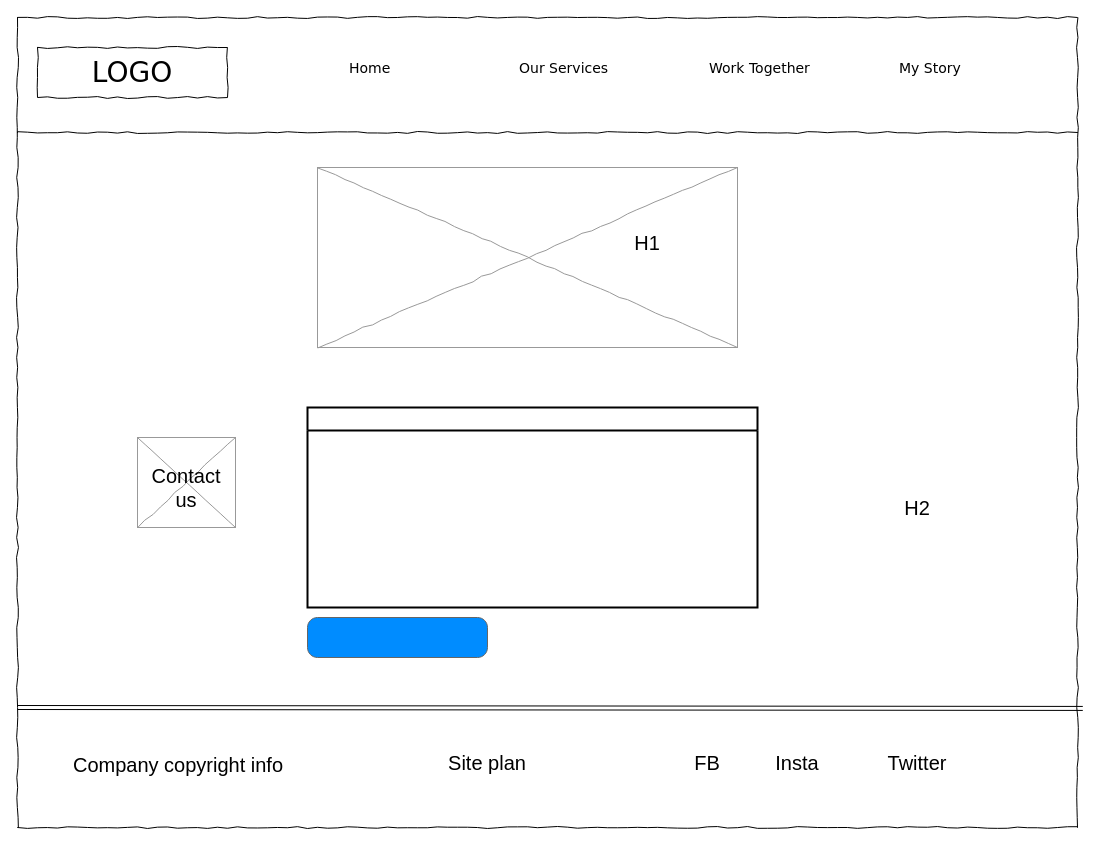
This 1101x845 diagram has some shape labels left out. The shapes that lost their labels are listed below. From the top down, each one's centre as x and y in pixels, then its label:
At point 532,507: "Contant us form".
At point 397,637: "Send your message".
